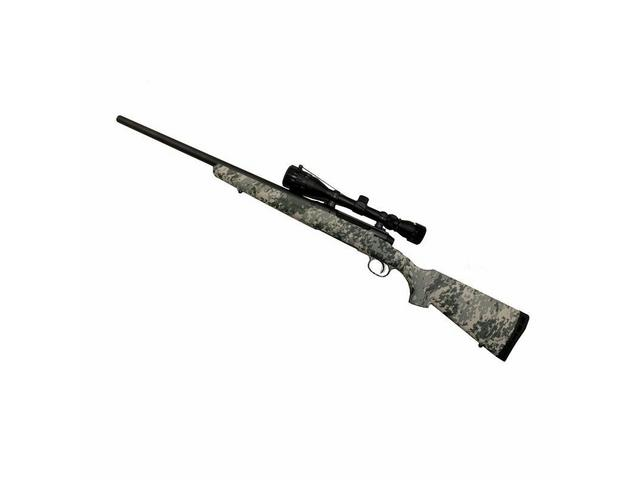rifle: (113, 112, 530, 366)
